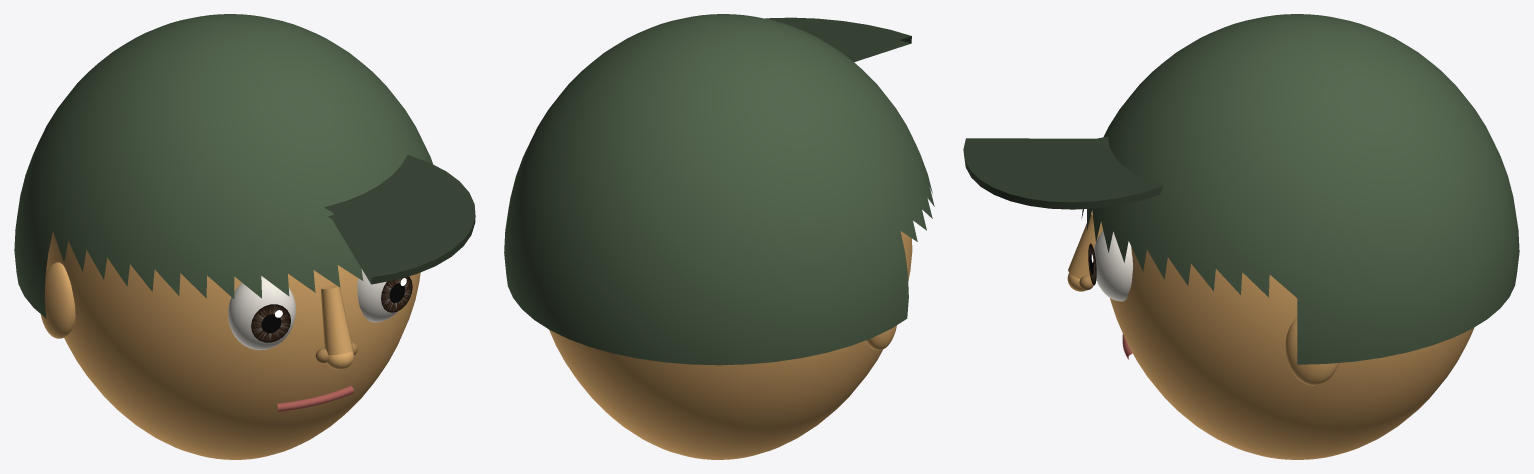
File: 02-casquette.glb
The picture shows the model from 3 angles, left to right: view 1: azimuth 30°, elevation 25°; view 2: azimuth 150°, elevation 25°; view 3: azimuth 270°, elevation 25°; orthographic projection.
Size of the model in its own units: 0.3235 by 0.341 by 0.4143.
11 materials, 1 textured.
